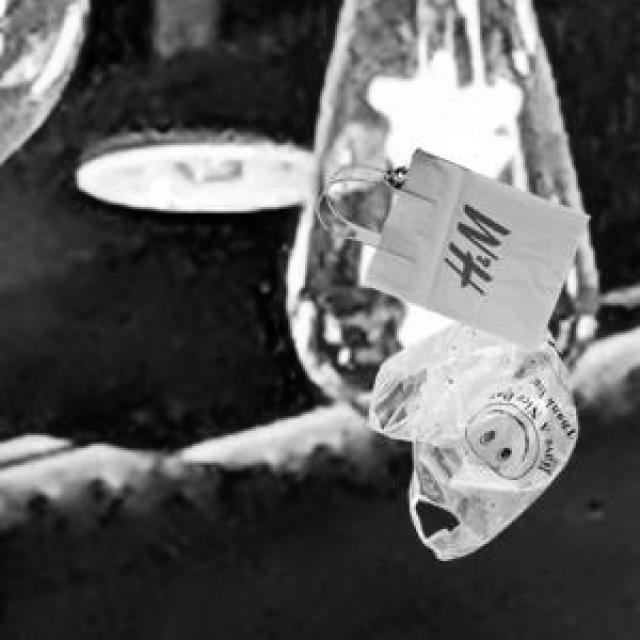paper: (339, 145, 587, 346)
